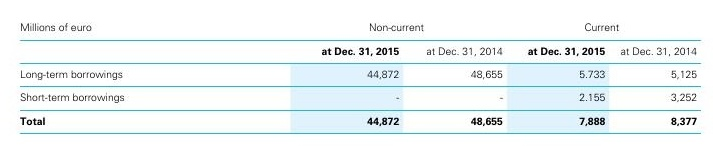table: (0, 0, 713, 146)
